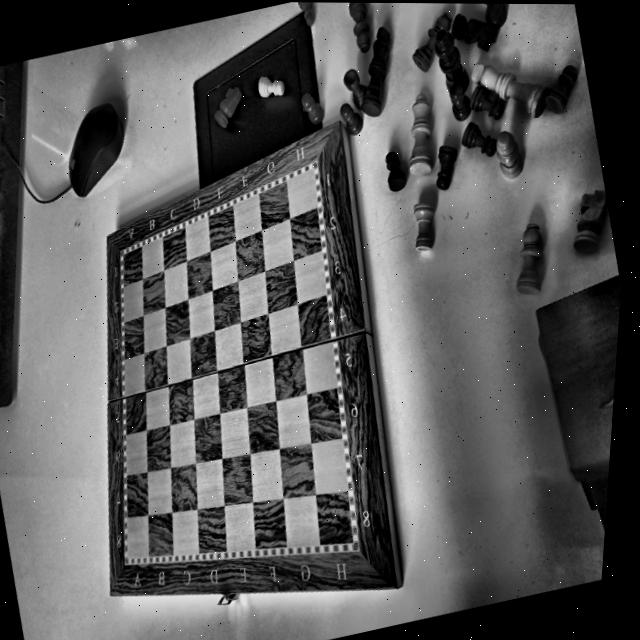chessboard: (105, 122, 398, 594)
